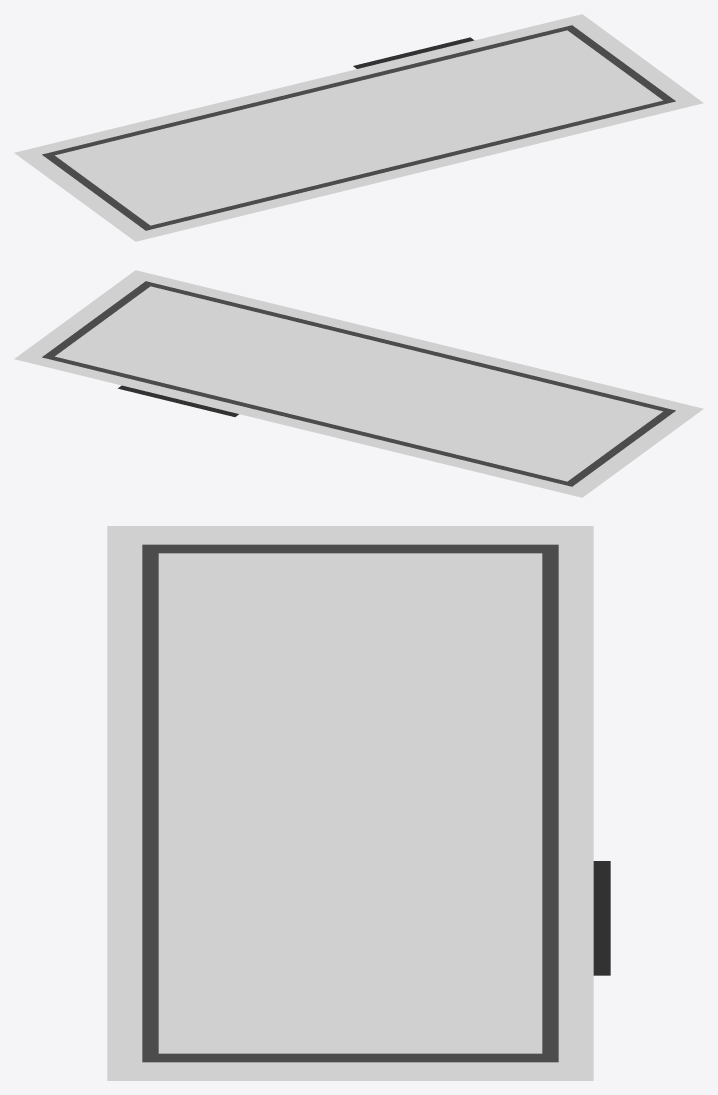
The model's file is MiscRoom_02_Floor.fbx.
3 renders of one model, top to bottom at view 1: azimuth 30°, elevation 25°; view 2: azimuth 150°, elevation 25°; view 3: azimuth 270°, elevation 25°, orthographic. The views are drawn at different scales.
Parts seen in each view (by area): view 1: MiscRoom_02_Floor; view 2: MiscRoom_02_Floor; view 3: MiscRoom_02_Floor.
Boxes of the visible parts, left/top/right/bottom form: MiscRoom_02_Floor: left=14, top=14, right=703, bottom=241; MiscRoom_02_Floor: left=14, top=270, right=703, bottom=497; MiscRoom_02_Floor: left=107, top=526, right=610, bottom=1080.
Bounding box in the file's own units: 38.65 × 0 × 14.83.
